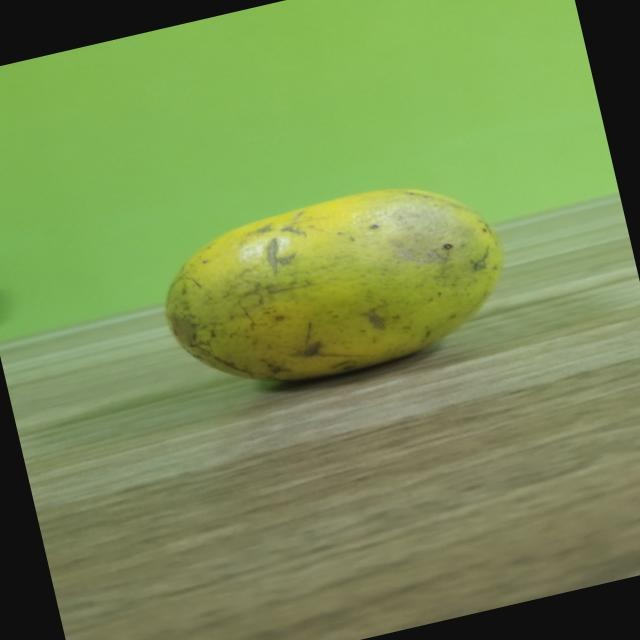agrume: (130, 154, 538, 423)
